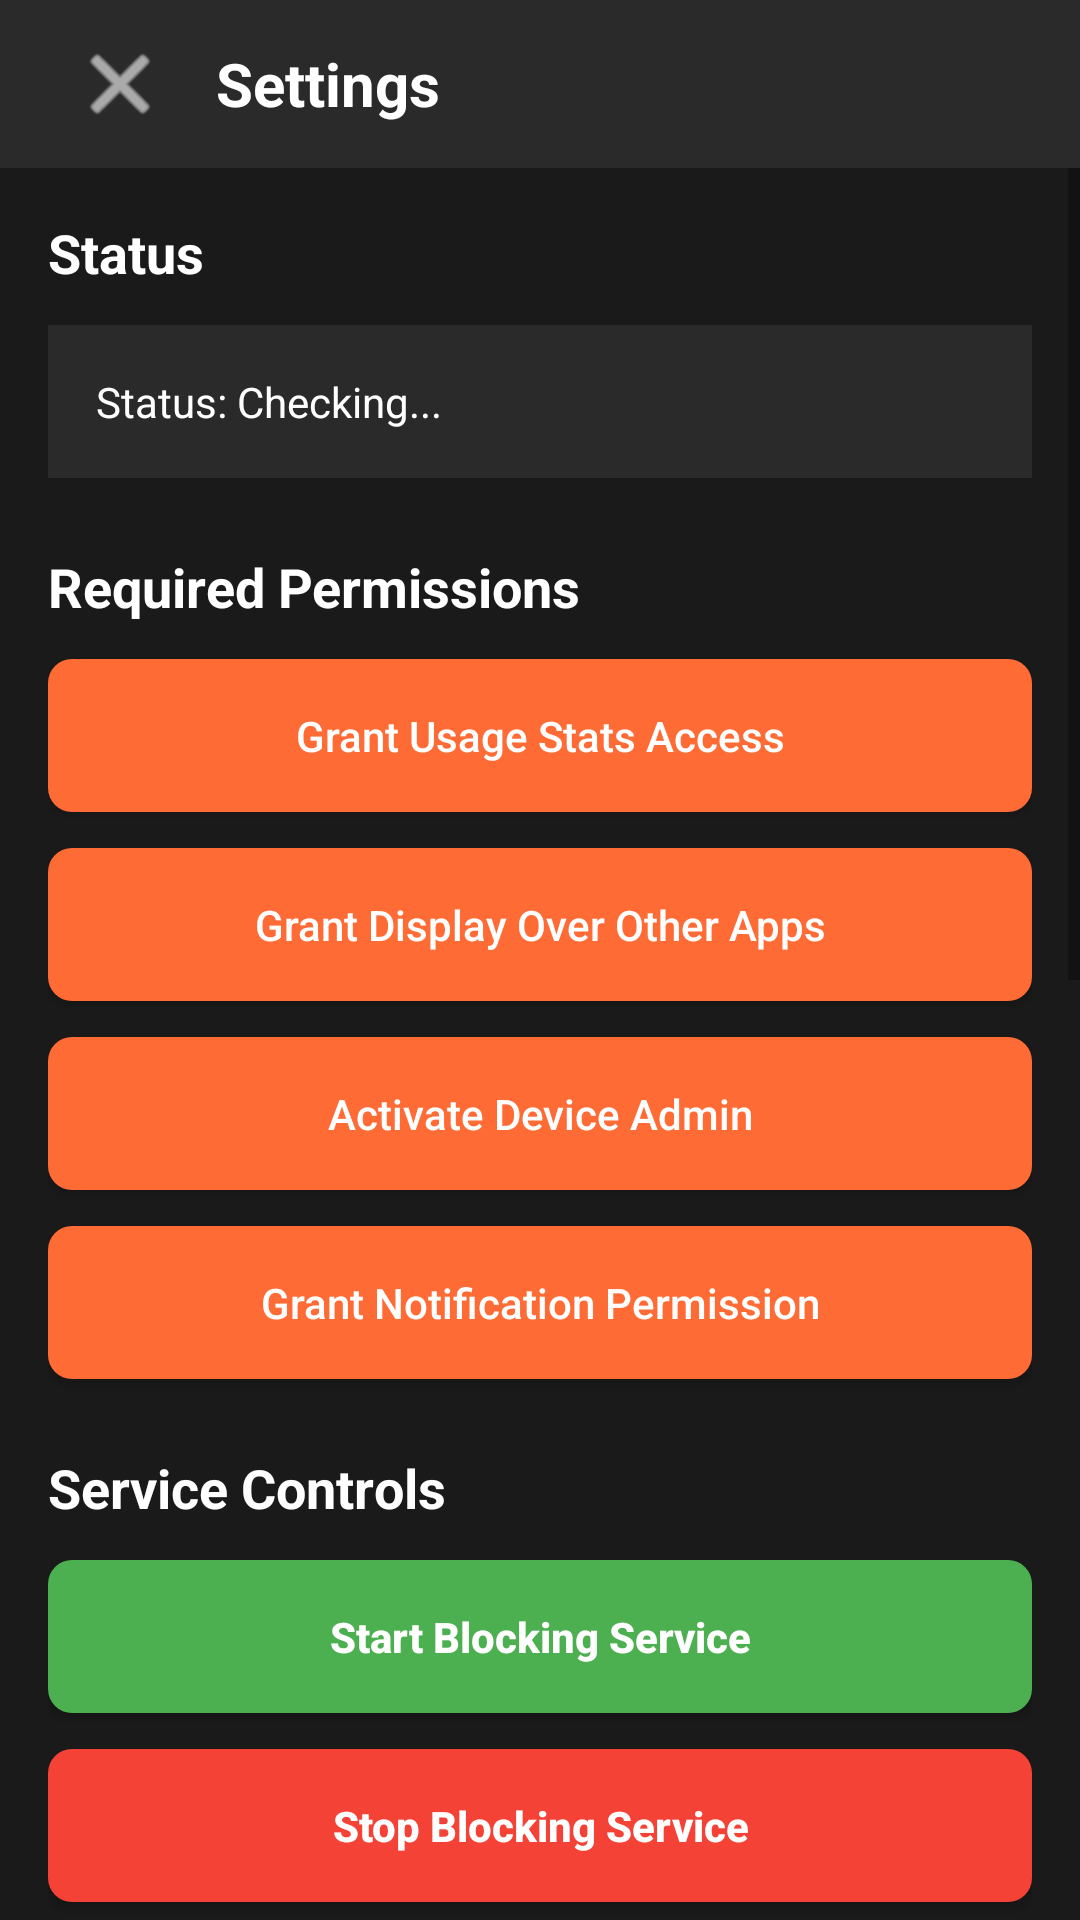

Named icons in this screenshot (1080x1920) and their centers, point (x, y):
Back: point (120, 84)
